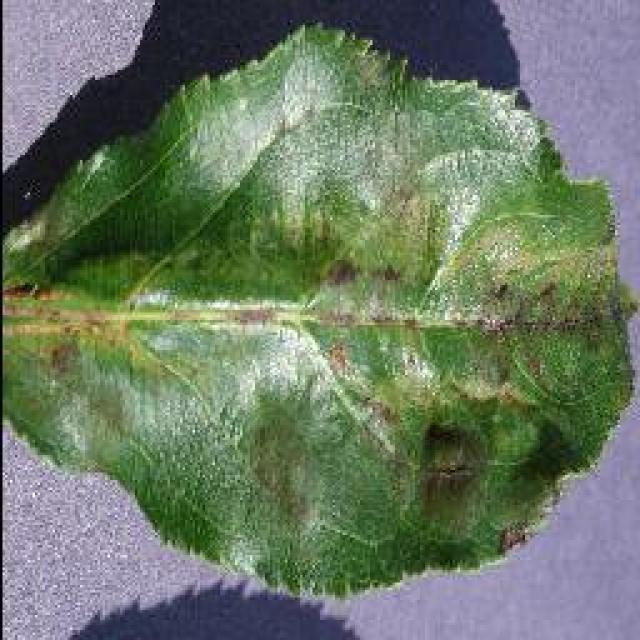apple scab disease: (0, 18, 638, 602)
